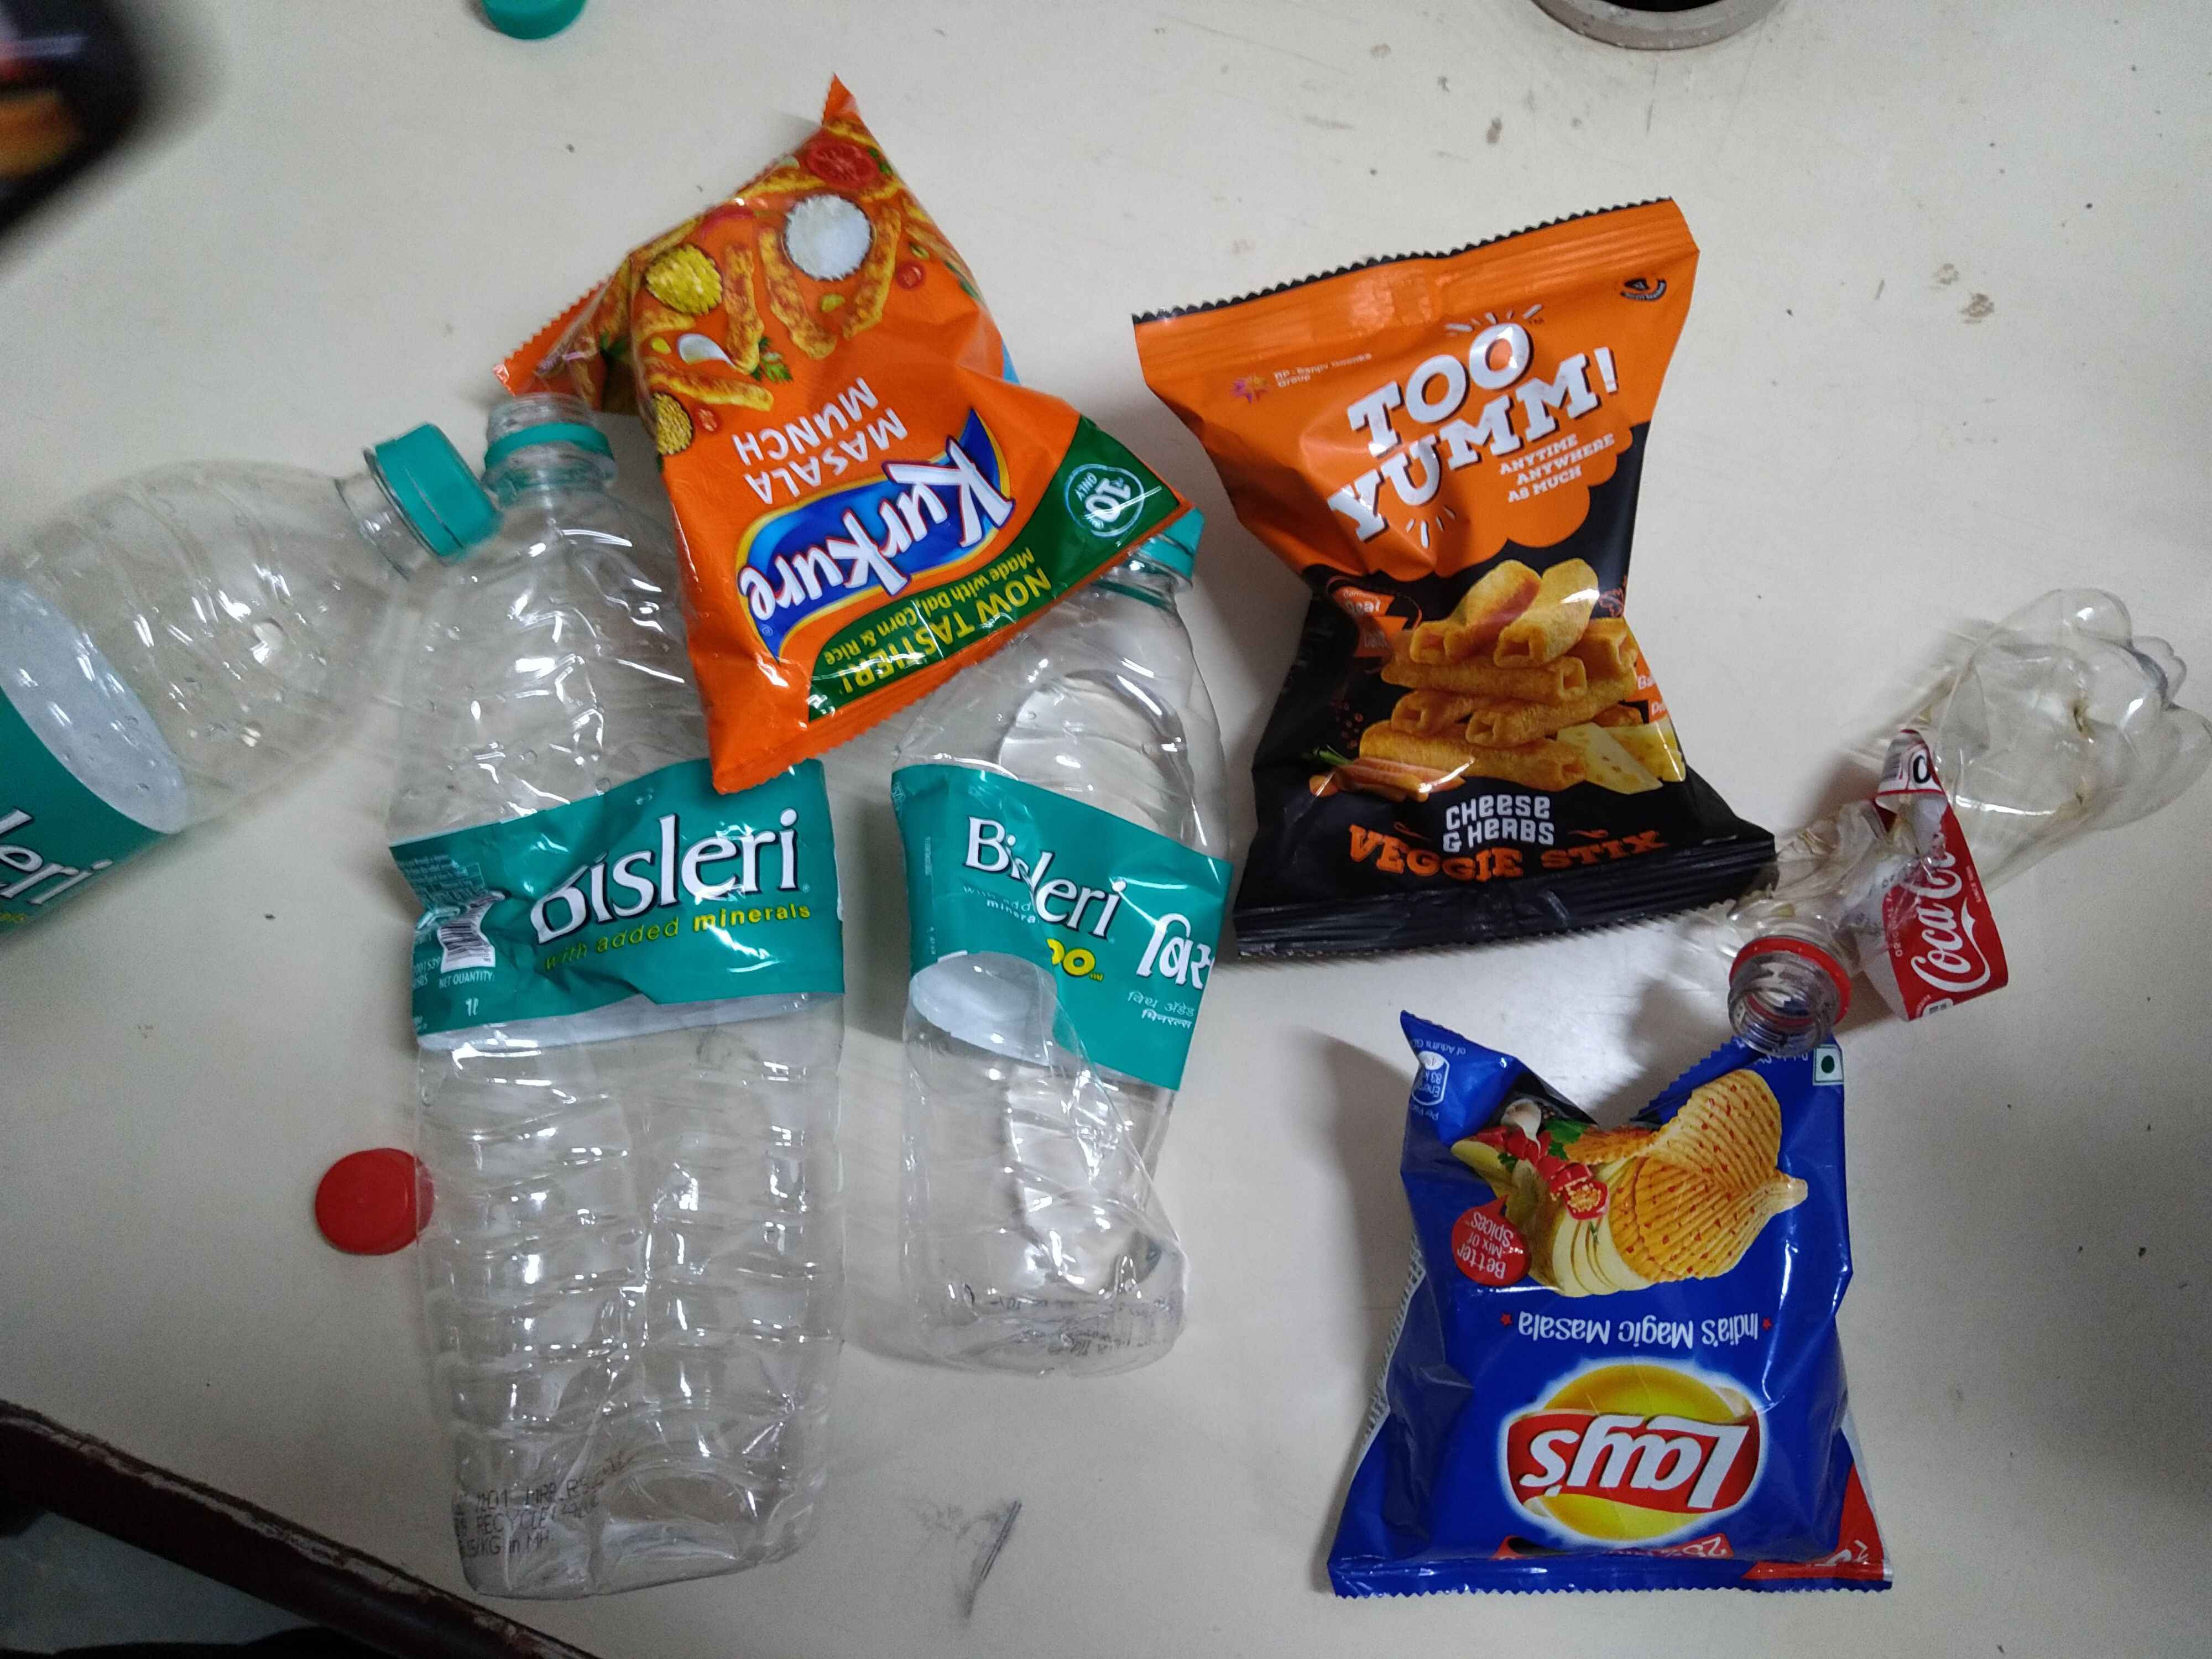Bisleri: (948, 788, 1237, 997), (421, 816, 822, 953), (0, 798, 127, 911)
Coca-Cola: (1897, 840, 1998, 999)
Lays: (1498, 1351, 1785, 1549)
kurkure: (744, 401, 1015, 687)
tooyumm: (1329, 303, 1622, 559)
